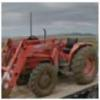tractors: (2, 32, 98, 98)
